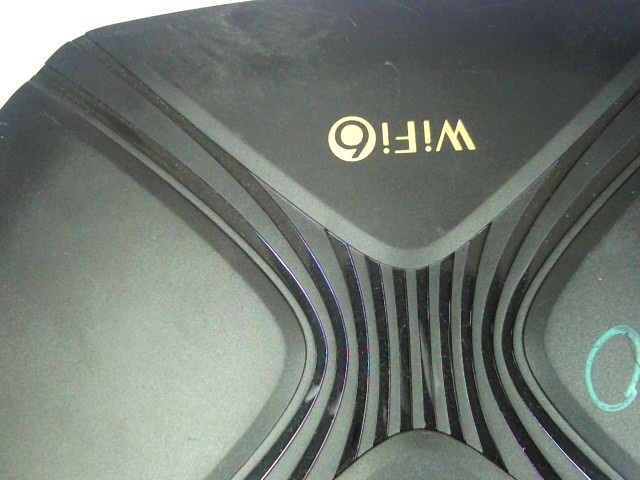AK_ZTEWIFI6Black: (320, 104, 484, 163)
